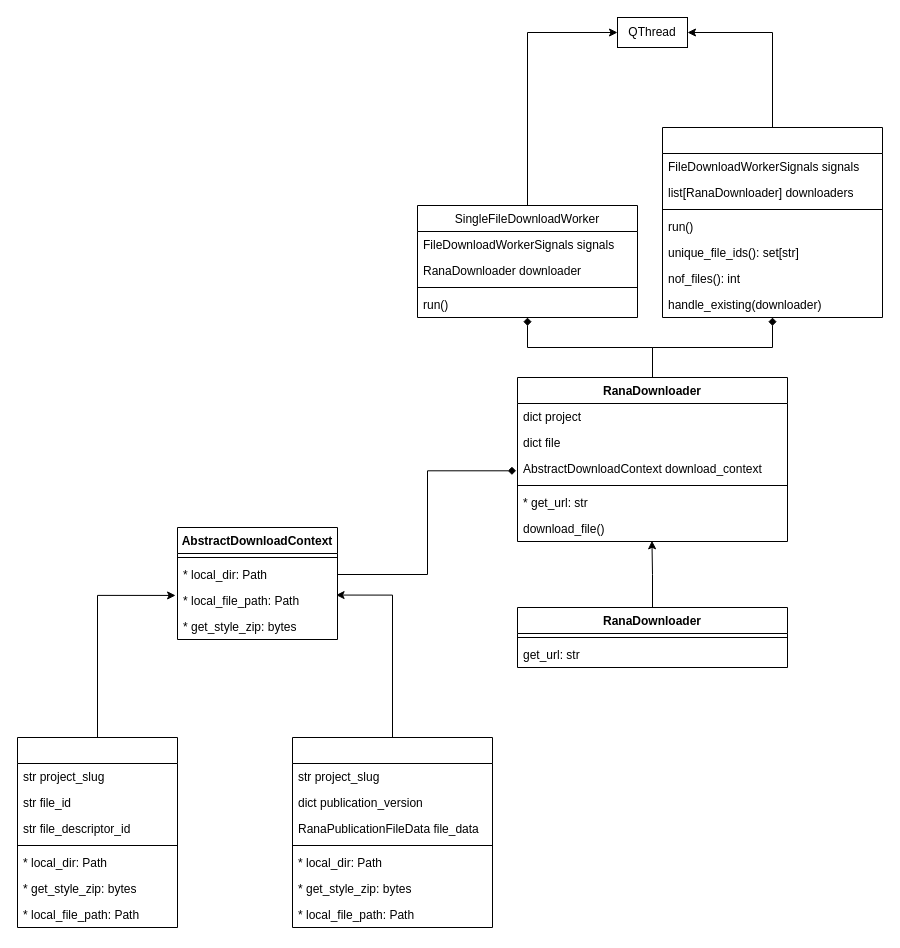
The diagram is 900 pixels wide and 948 high, and some of its shapes have lost their labels. Each missing label, with the box of its shape:
BatchFileDownloadWorker: (662, 126, 882, 318)
FileDownloadContext: (16, 736, 178, 928)
PublicationFileDownloadContext: (292, 736, 492, 928)
